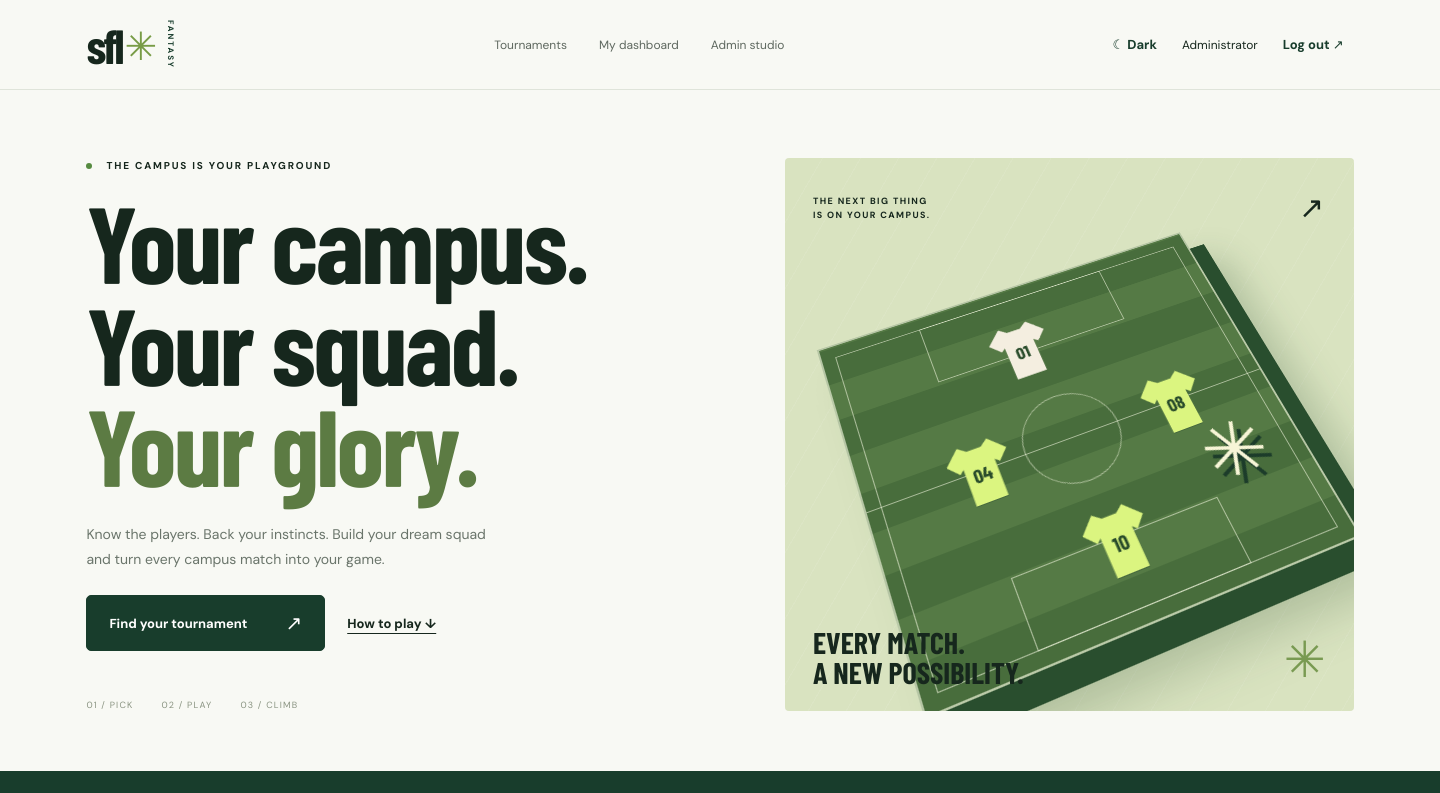
restored admin sees administrative controls and logout clears session
Expected: the link "Admin studio" is shown, [711, 36, 784, 52]
Click the button "Log out ↗".
click(1313, 44)  # box [1273, 30, 1354, 59]
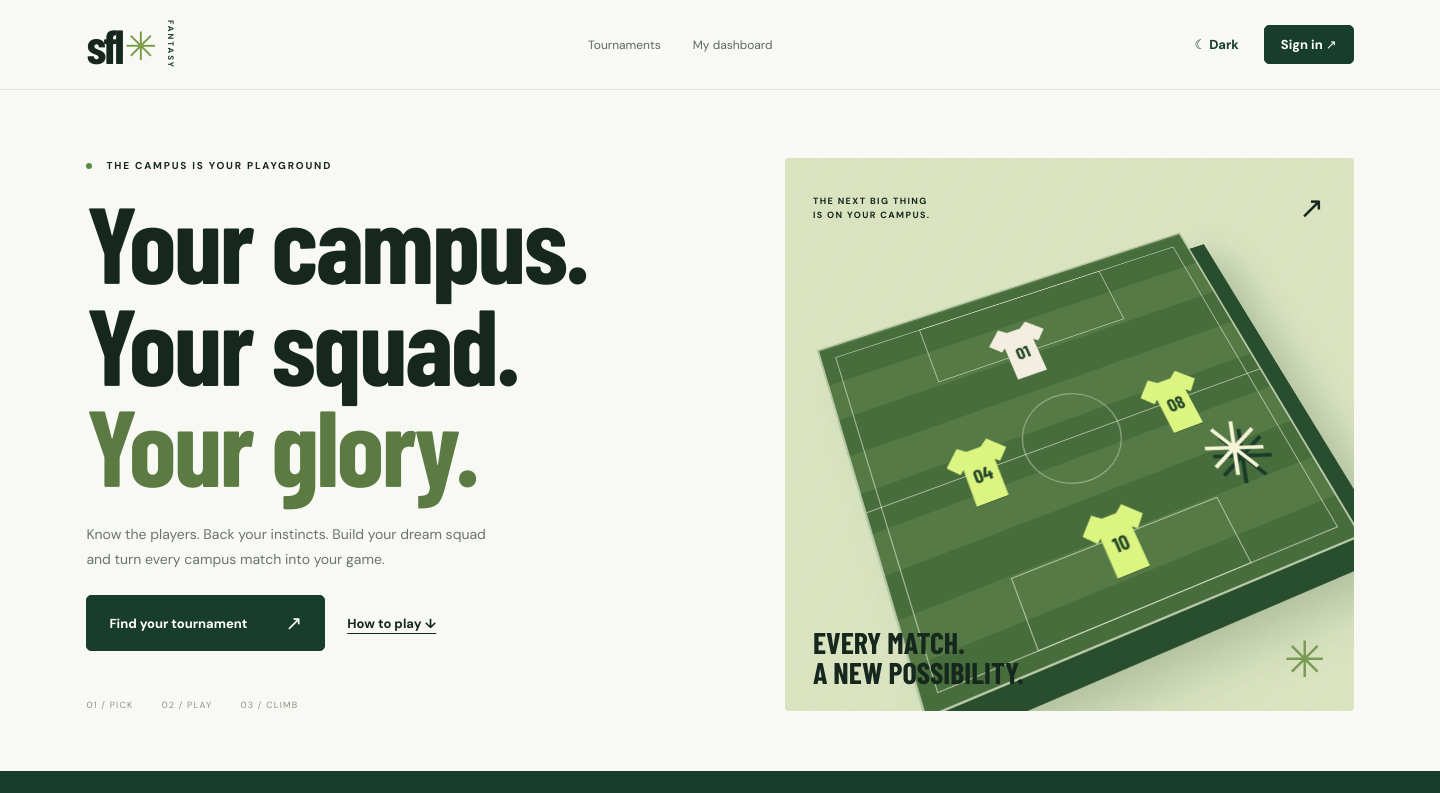
Expected: the link "Admin studio" is gone
